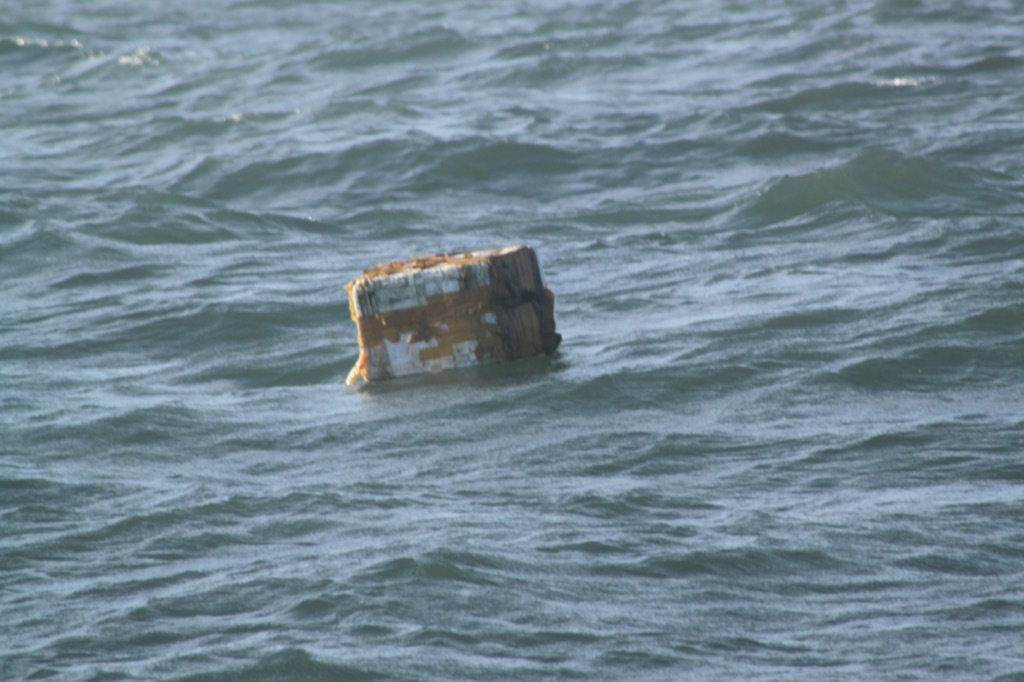plastic: (315, 235, 578, 409)
